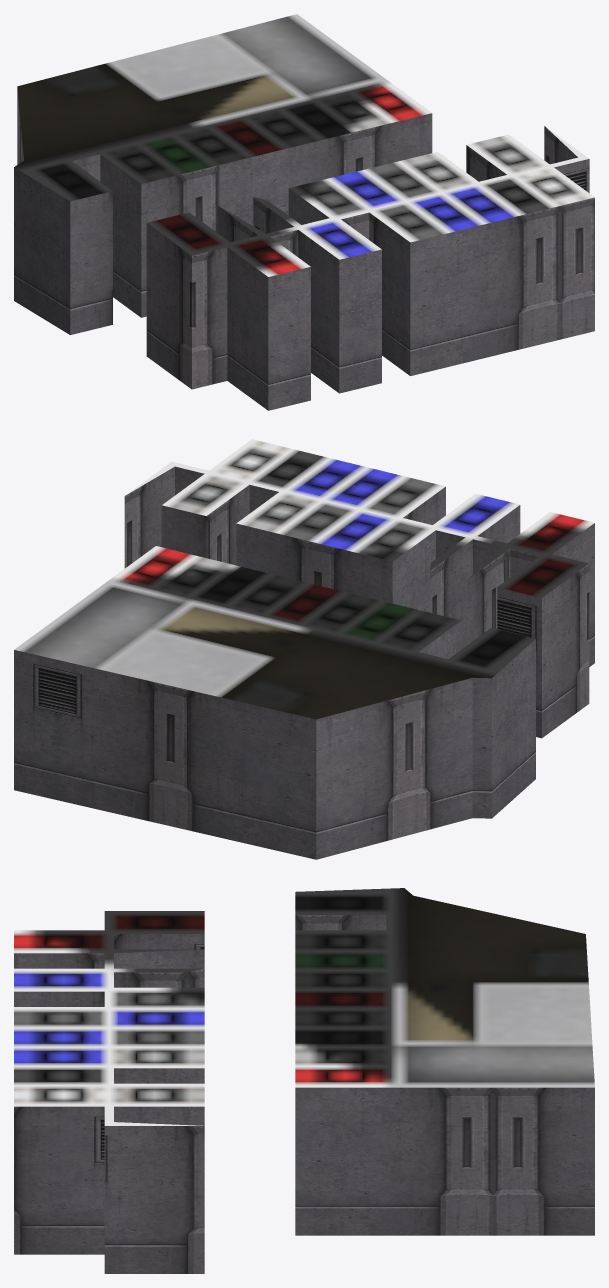
Rendered from BuildingSystem-03-Advance-04-ReinforcedLow-H-097-04.glb.
3 renders of one model, top to bottom at view 1: azimuth 30°, elevation 25°; view 2: azimuth 150°, elevation 25°; view 3: azimuth 270°, elevation 25°, orthographic. The views are drawn at different scales.
Visible parts, largest first — view 1: buildings/saxarba/SMV_Buildings/BuildingSystem-03-Advance-04; view 2: buildings/saxarba/SMV_Buildings/BuildingSystem-03-Advance-04; view 3: buildings/saxarba/SMV_Buildings/BuildingSystem-03-Advance-04.
Part boxes in pixels (left/top/right/bottom): buildings/saxarba/SMV_Buildings/BuildingSystem-03-Advance-04: left=14, top=14, right=594, bottom=410; buildings/saxarba/SMV_Buildings/BuildingSystem-03-Advance-04: left=14, top=439, right=594, bottom=859; buildings/saxarba/SMV_Buildings/BuildingSystem-03-Advance-04: left=14, top=888, right=594, bottom=1273.
Size of the model in its own units: 62 by 18 by 64.
